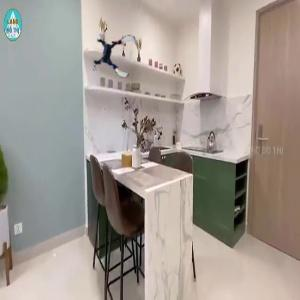drone: (93, 32, 139, 78)
